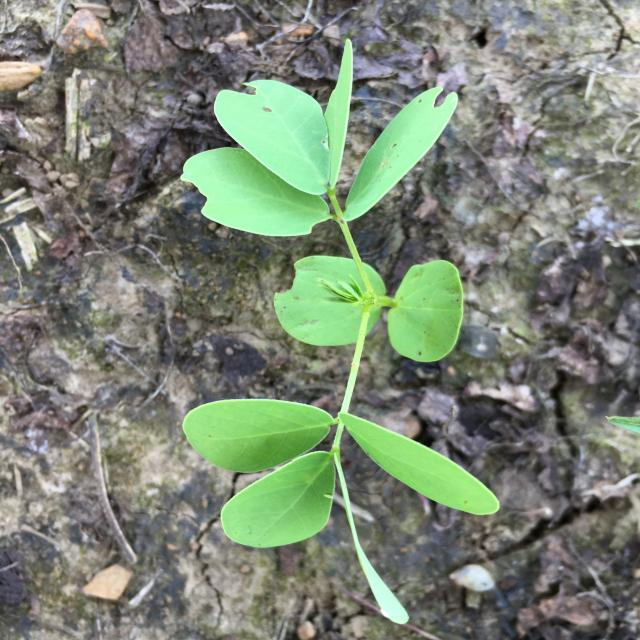Sicklepod: (182, 38, 500, 625)
